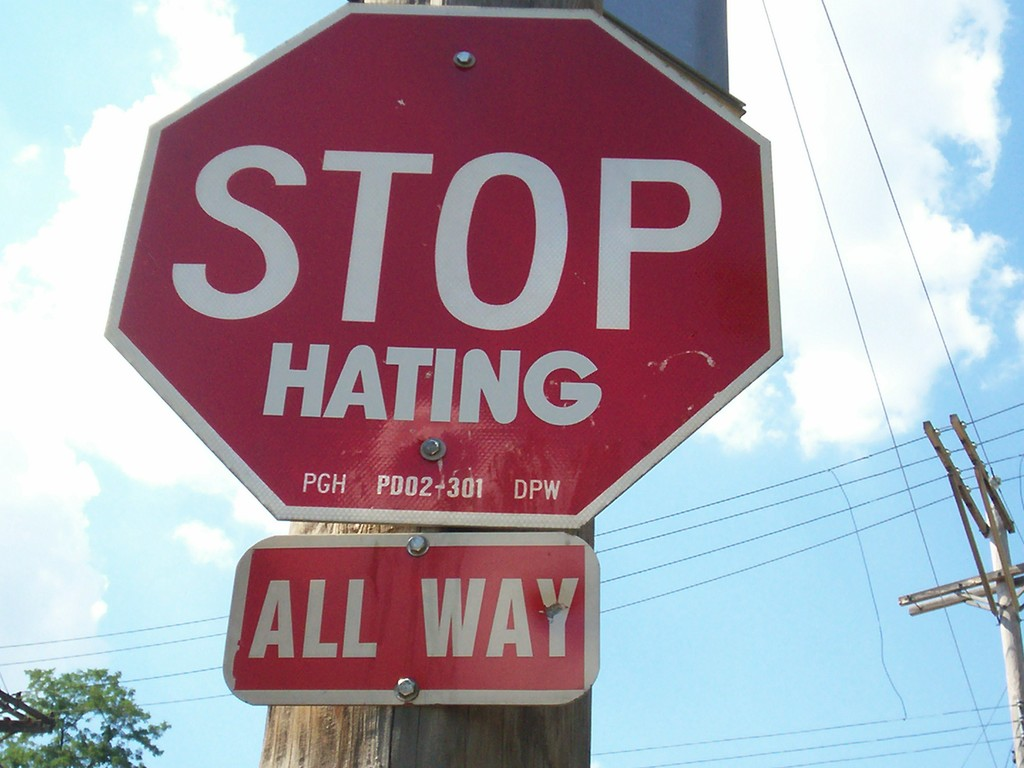stop_sign: (105, 7, 781, 523)
